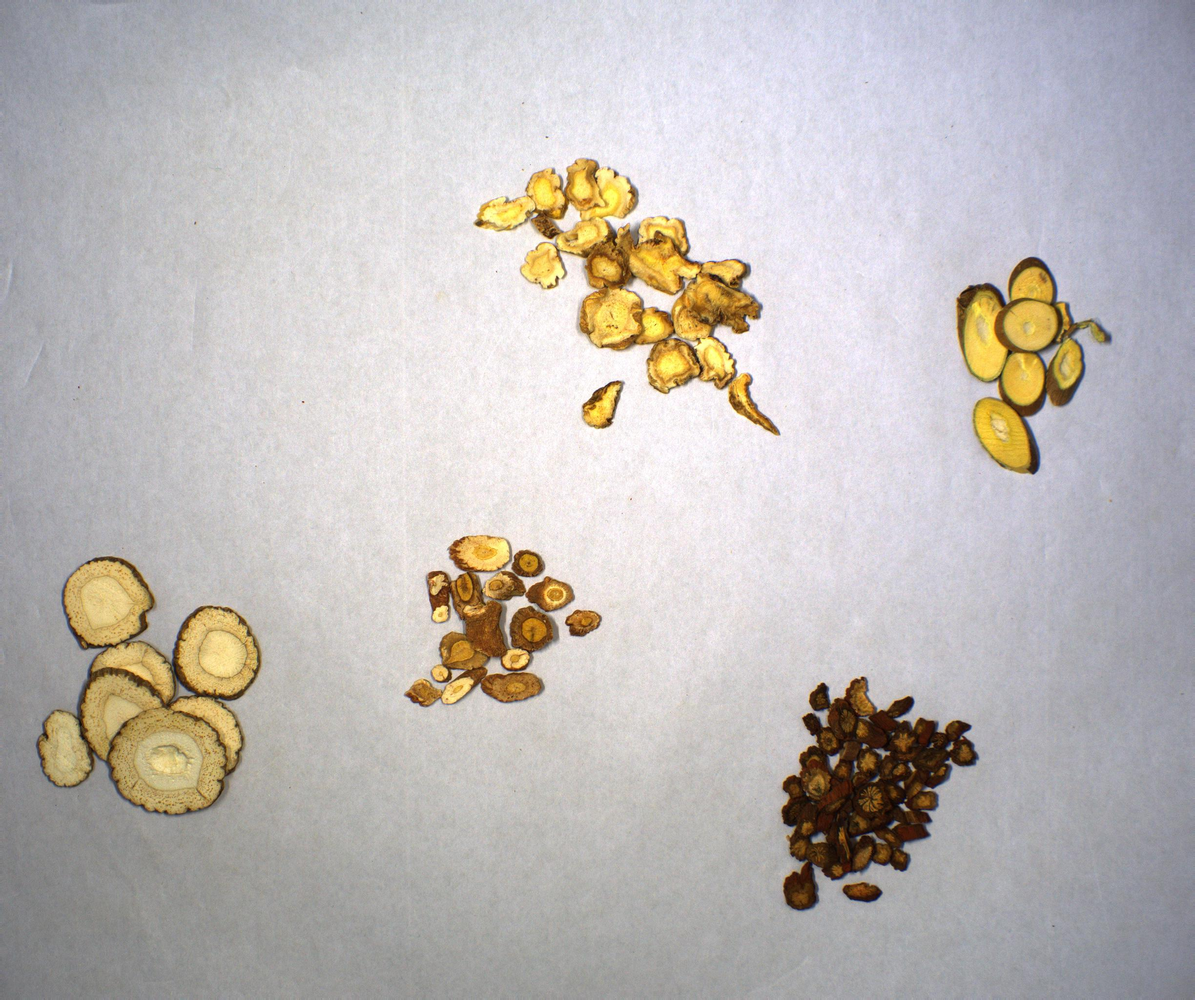baizhi: (38, 555, 264, 817)
banlangen: (404, 534, 604, 710)
danshen: (781, 678, 983, 913)
jiegeng: (475, 156, 783, 440)
sangzhi: (955, 258, 1116, 478)
